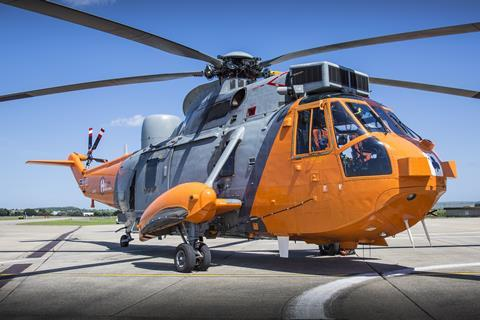Sea King: (19, 37, 460, 279)
